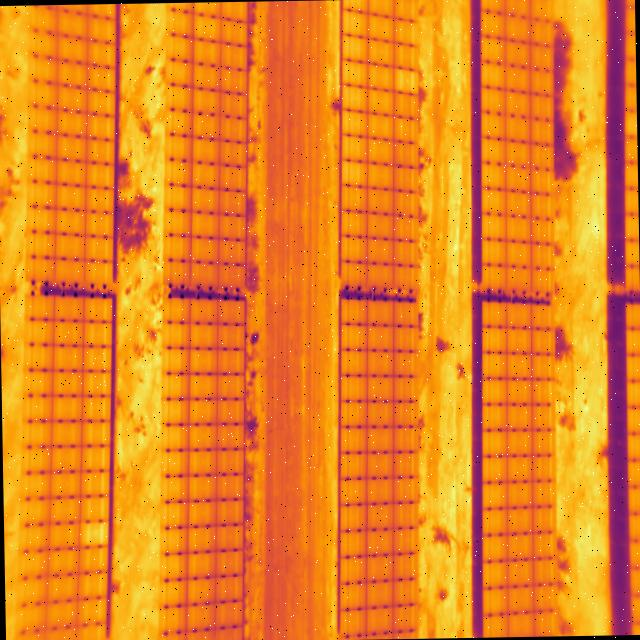Hotspot: (83, 522, 108, 546), (397, 68, 417, 92)
